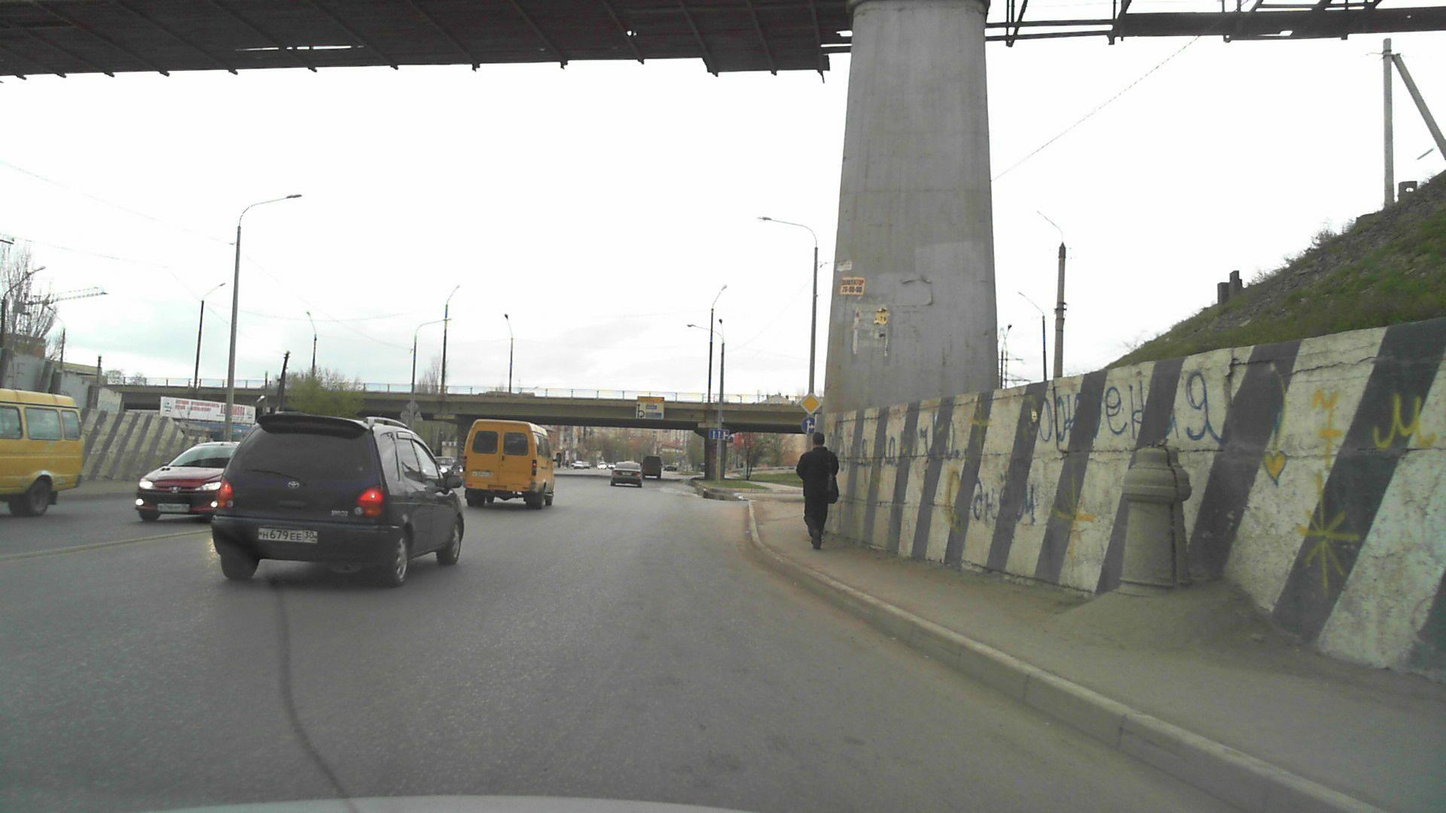road_sign: (799, 392, 822, 416), (801, 417, 815, 434), (708, 429, 729, 440)
